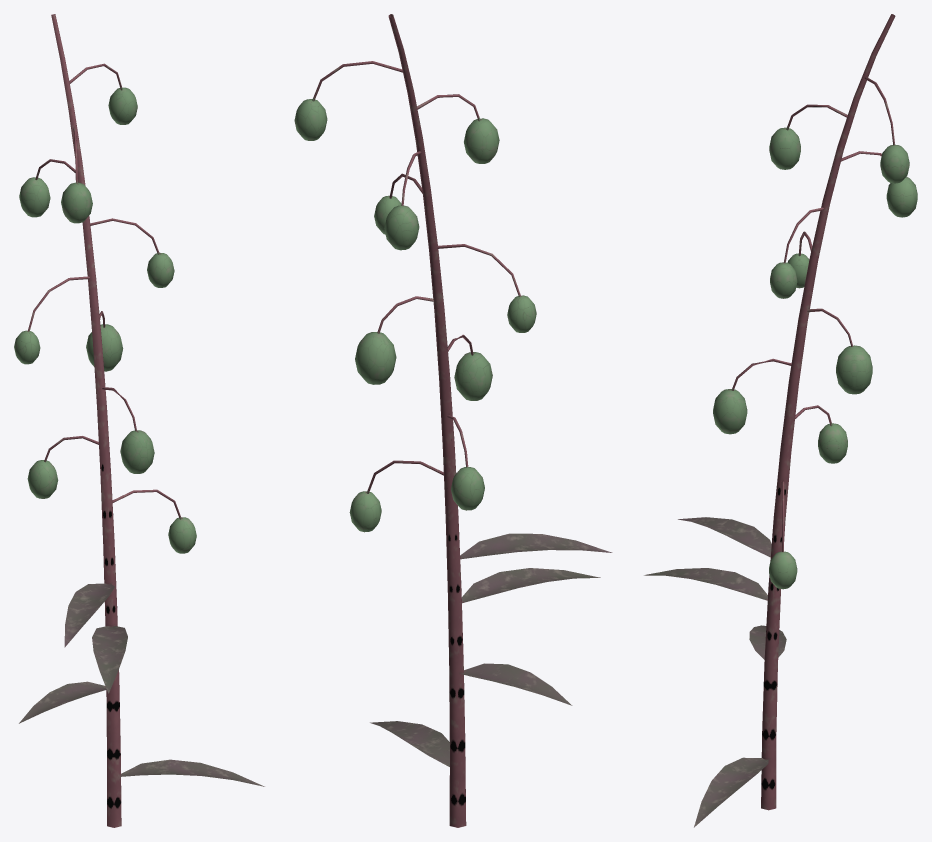
Rendered from SM_Flora_SporeStalk.fbx.
3 views of the same model, side by side, from view 1: azimuth 30°, elevation 25°; view 2: azimuth 150°, elevation 25°; view 3: azimuth 270°, elevation 25° (orthographic). The views are drawn at different scales.
Parts seen in each view (by area): view 1: SM_Flora_SporeStalk; view 2: SM_Flora_SporeStalk; view 3: SM_Flora_SporeStalk.
Part boxes in pixels (left/top/right/bottom): SM_Flora_SporeStalk: left=14, top=14, right=264, bottom=827; SM_Flora_SporeStalk: left=294, top=14, right=612, bottom=827; SM_Flora_SporeStalk: left=644, top=14, right=917, bottom=827.
Bounding box in the file's own units: 41.07 × 44.21 × 140.
